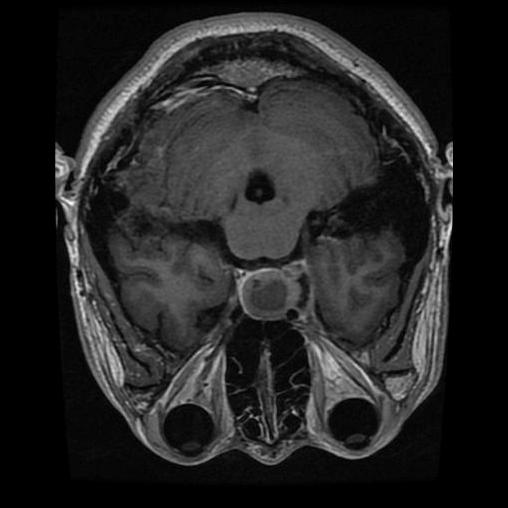Tumour-Pituitary: (234, 265, 306, 324)
